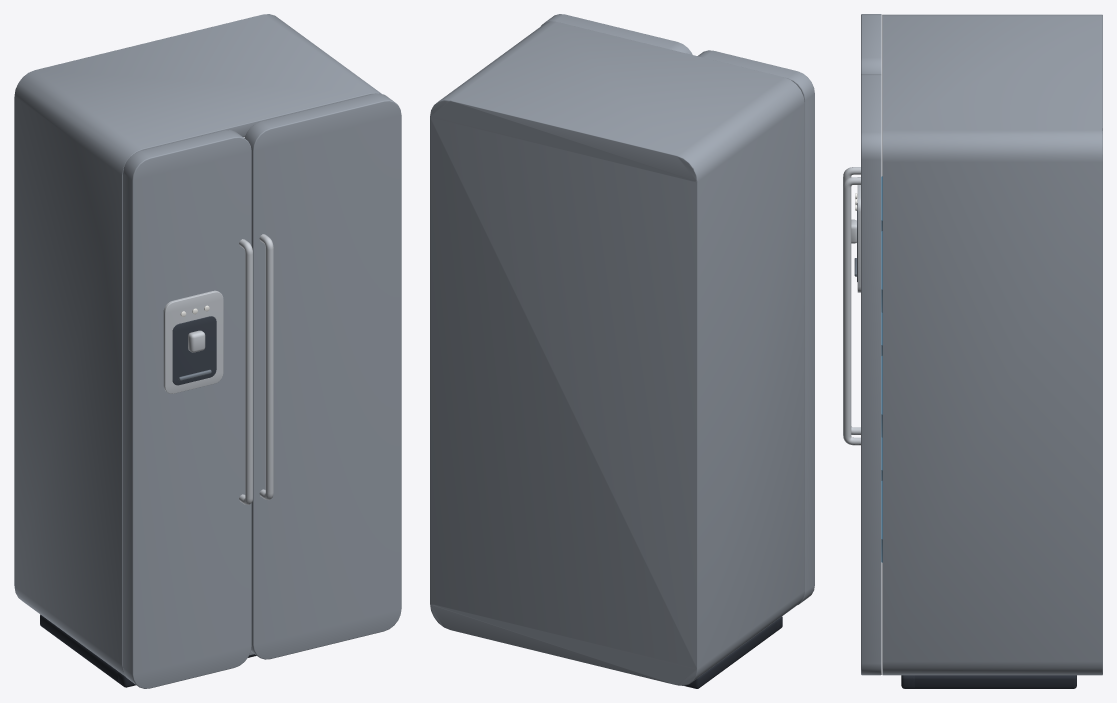
The model's file is geladeira_duplex_cinza.glb.
3 views of the same model, side by side, from view 1: azimuth 30°, elevation 25°; view 2: azimuth 150°, elevation 25°; view 3: azimuth 270°, elevation 25° (orthographic). The views are drawn at different scales.
Visible parts, largest first — view 1: geladeira_duplex_cinza, porta_geladeira, porta_freezer; view 2: geladeira_duplex_cinza, porta_freezer, porta_geladeira; view 3: geladeira_duplex_cinza, porta_geladeira, porta_freezer.
Boxes of the visible parts, <box> form: geladeira_duplex_cinza: <box>14,14,381,687</box>; porta_geladeira: <box>244,93,401,659</box>; porta_freezer: <box>123,130,252,688</box>; geladeira_duplex_cinza: <box>430,21,804,688</box>; porta_freezer: <box>697,50,814,604</box>; porta_geladeira: <box>541,14,692,54</box>; geladeira_duplex_cinza: <box>882,14,1102,688</box>; porta_geladeira: <box>843,74,882,675</box>; porta_freezer: <box>843,14,882,480</box>.
Bounding box in the file's own units: 0.92 × 1.78 × 0.754.
Materials: 2 (1 with a texture image).
